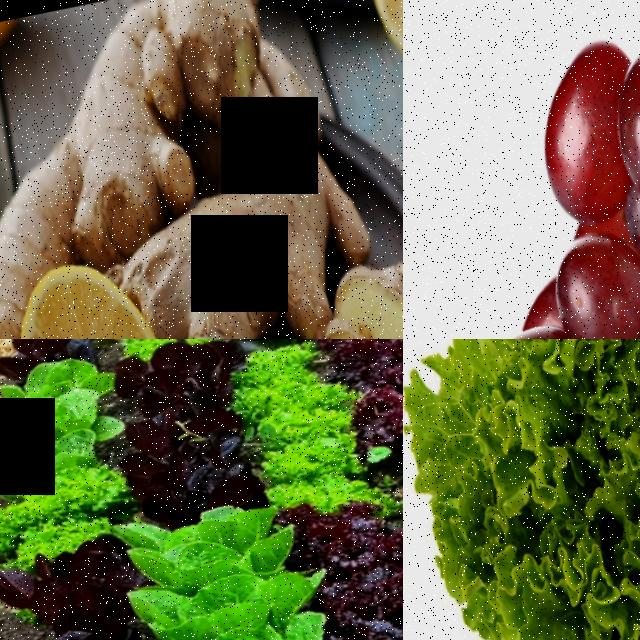ginger: (28, 0, 297, 256), (125, 170, 347, 339)
grapes: (403, 0, 640, 339)
lemon: (362, 0, 403, 116)
lettuce: (403, 339, 640, 640), (123, 556, 318, 640), (131, 502, 283, 597), (0, 469, 135, 562), (0, 357, 110, 452), (256, 430, 362, 513), (238, 366, 348, 442), (0, 419, 99, 495), (109, 339, 221, 357)
